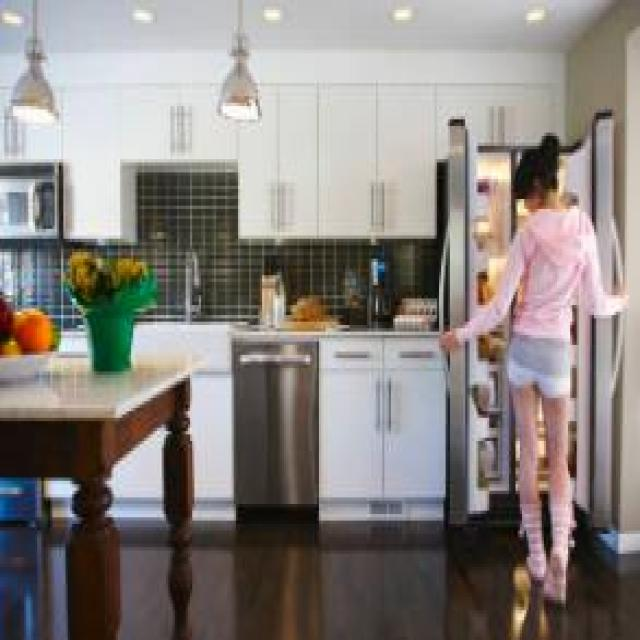dishwasher: (229, 332, 317, 504)
